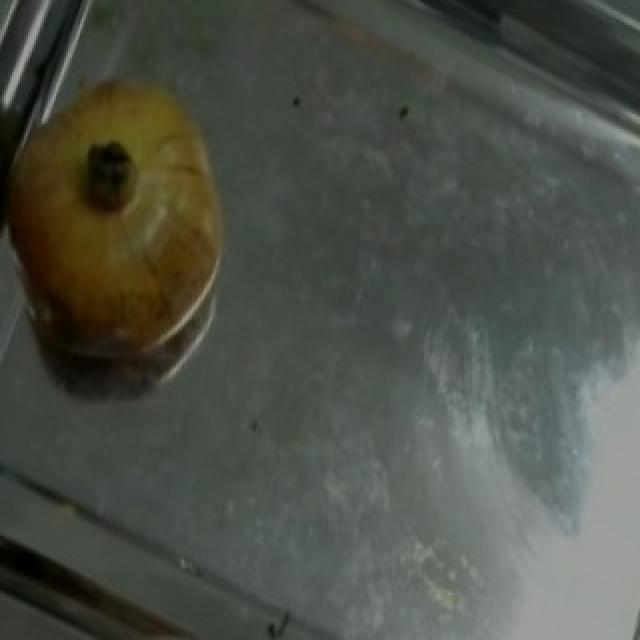fruit: (0, 107, 268, 402)
